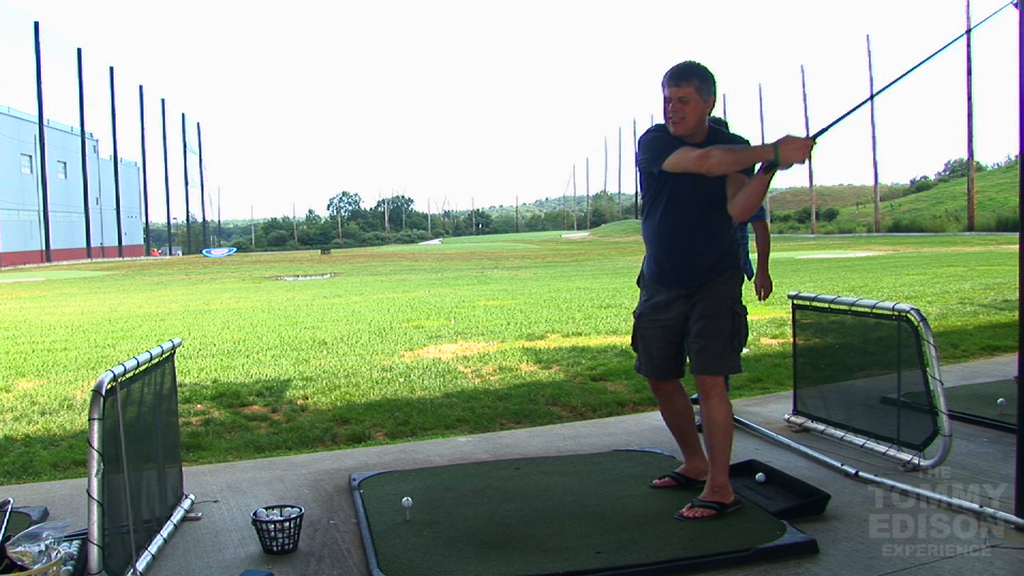Tree: (143, 155, 987, 246)
